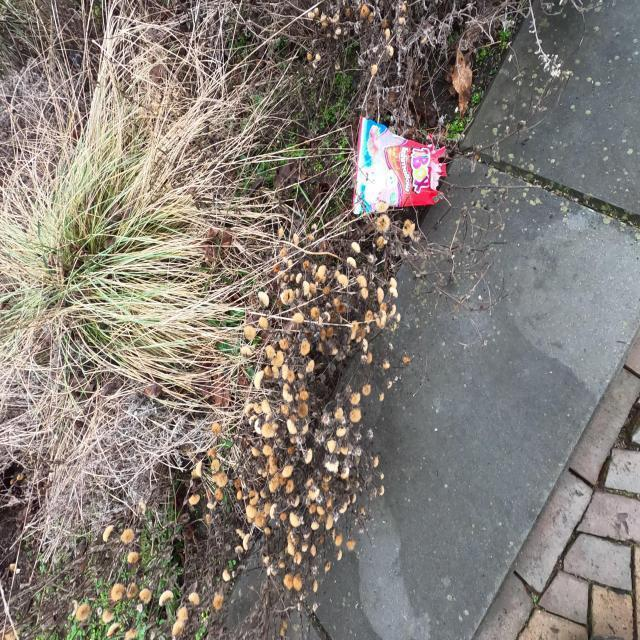Plastic: (351, 116, 448, 217)
